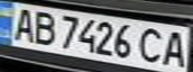2: (93, 18, 118, 57)
4: (75, 16, 100, 54)
6: (112, 21, 139, 61)
7: (54, 12, 81, 51)
A: (157, 28, 193, 69), (6, 4, 39, 42)
B: (27, 9, 60, 46)
C: (136, 25, 169, 64)
